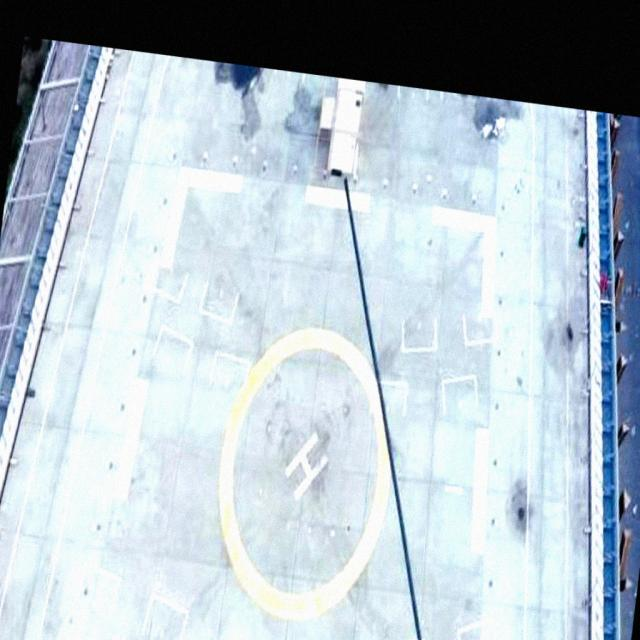helipad: (213, 319, 396, 627)
